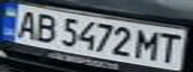2: (112, 24, 136, 58)
4: (75, 19, 96, 52)
5: (54, 16, 81, 48)
7: (93, 20, 115, 55)
A: (9, 8, 42, 39)
B: (30, 11, 60, 43)
M: (133, 27, 163, 62)
T: (154, 30, 187, 63)
